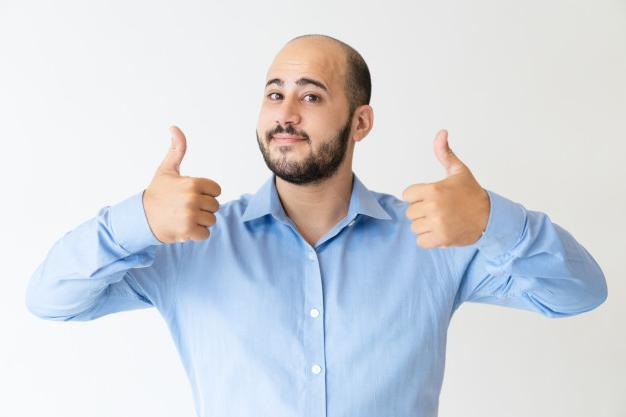thumbsup: (402, 129, 467, 248), (165, 125, 221, 240)
